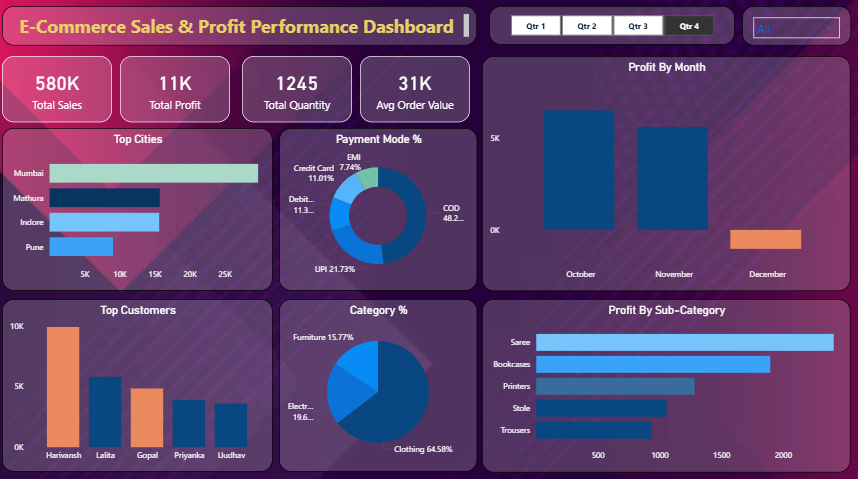

Layout of this report page (visuals, bound fields, positions):
{"tool":"powerbi","page":{"name":"Page 1","canvas":[1280,720],"ordinal":0},"visuals":[{"type":"textbox","box":[2.9,8.6,708.6,58.6],"z":0},{"type":"columnChart","title":"Profit By Month","fields":{"Category":["Orders.Order Date.Variation.Date Hierarchy.Month"],"Y":["Sum(Details.Profit)"]},"box":[720,82.9,550,351.4],"z":1000},{"type":"barChart","title":"Profit By Sub-Category","fields":{"Category":["Details.Sub-Category"],"Y":["Sum(Details.Profit)"]},"box":[720,445.7,550,258.6],"z":2000},{"type":"pieChart","title":"Category %","fields":{"Category":["Details.Category"],"Y":["CountNonNull(Details.Order ID)"]},"box":[416.4,446.3,295.5,258.2],"z":3000},{"type":"donutChart","title":"Payment Mode %","fields":{"Y":["CountNonNull(Details.Order ID)"],"Category":["Details.PaymentMode"]},"box":[415.7,191.4,295.7,242.9],"z":4000},{"type":"card","fields":{"Values":["Details.Total Sales"]},"box":[2.9,82.9,164.3,98.6],"z":5000},{"type":"barChart","title":"Top Cities","fields":{"Category":["Orders.City"],"Y":["Sum(Details.Amount)"]},"box":[2.9,191.4,404.3,242.9],"z":6000},{"type":"columnChart","title":"Top Customers","fields":{"Category":["Orders.CustomerName"],"Y":["Sum(Details.Amount)"]},"box":[3,446.3,404.5,258.2],"z":7000},{"type":"slicer","fields":{"Values":["Orders.Order Date.Variation.Date Hierarchy.Quarter"]},"box":[729.9,9,367.2,58.2],"z":8000},{"type":"slicer","fields":{"Values":["Orders.City"]},"box":[1107.1,8.6,162.9,58.6],"z":9000},{"type":"card","fields":{"Values":["Details.Total Profit"]},"box":[178.6,82.9,164.3,98.6],"z":10000},{"type":"card","fields":{"Values":["Details.Total Quantity"]},"box":[361.4,82.9,164.3,98.6],"z":11000},{"type":"card","fields":{"Values":["Details.Total AOV"]},"box":[537.1,82.9,164.3,98.6],"z":12000}]}

Visuals, with their boxes in screenshot pixels (x1, y1, x2, y2), scaled from the page's 1280x720 canvas onto the 858x479 screenshot:
textbox: rect(2, 6, 477, 45)
"Profit By Month" columnChart: rect(483, 55, 851, 289)
"Profit By Sub-Category" barChart: rect(483, 297, 851, 469)
"Category %" pieChart: rect(279, 297, 477, 469)
"Payment Mode %" donutChart: rect(279, 127, 477, 289)
card - Details.Total Sales: rect(2, 55, 112, 121)
"Top Cities" barChart: rect(2, 127, 273, 289)
"Top Customers" columnChart: rect(2, 297, 273, 469)
slicer - Orders.Order Date.Variation.Date Hierarchy.Quarter: rect(489, 6, 735, 45)
slicer - Orders.City: rect(742, 6, 851, 45)
card - Details.Total Profit: rect(120, 55, 230, 121)
card - Details.Total Quantity: rect(242, 55, 352, 121)
card - Details.Total AOV: rect(360, 55, 470, 121)
